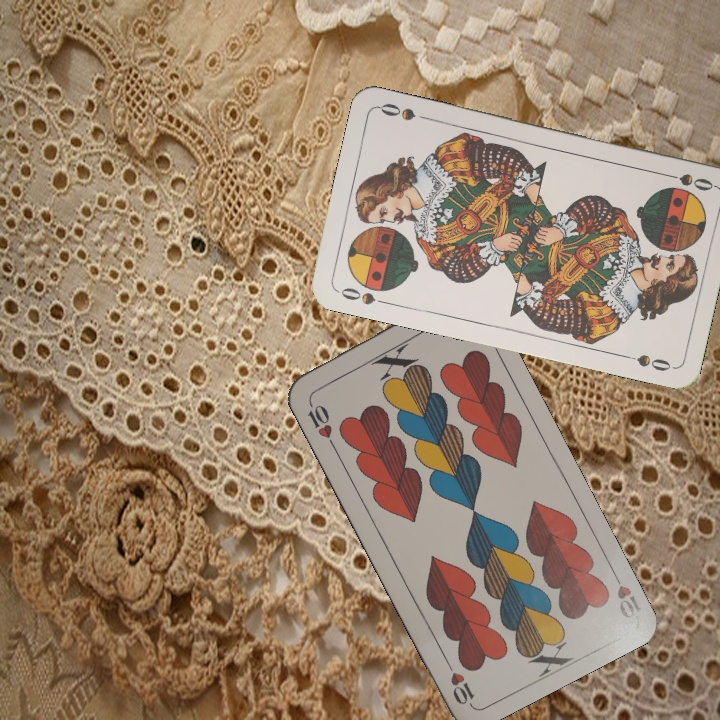H10: (607, 564, 643, 622), (303, 395, 338, 450)
SO: (658, 168, 716, 194), (333, 283, 392, 308)
